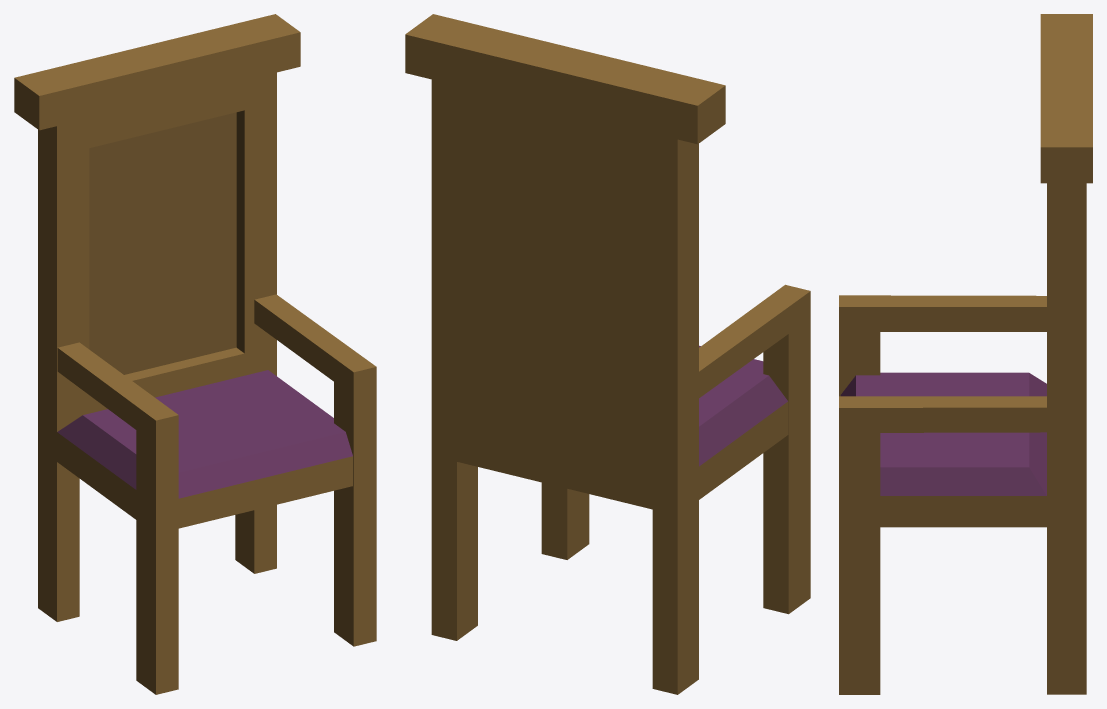
Rendered from SM_Prop_Chair_04.glb.
The picture shows the model from 3 angles, left to right: view 1: azimuth 30°, elevation 25°; view 2: azimuth 150°, elevation 25°; view 3: azimuth 270°, elevation 25°; orthographic projection. The views are drawn at different scales.
Visible parts, largest first — view 1: SM_Prop_Chair_04; view 2: SM_Prop_Chair_04; view 3: SM_Prop_Chair_04.
Boxes of the visible parts, bbox=[...] form: SM_Prop_Chair_04: bbox=[14, 14, 376, 694]; SM_Prop_Chair_04: bbox=[405, 14, 810, 694]; SM_Prop_Chair_04: bbox=[839, 14, 1092, 694].
Size of the model in its own units: 0.0147 by 0.0286 by 0.0118.
1 material, 1 textured.
